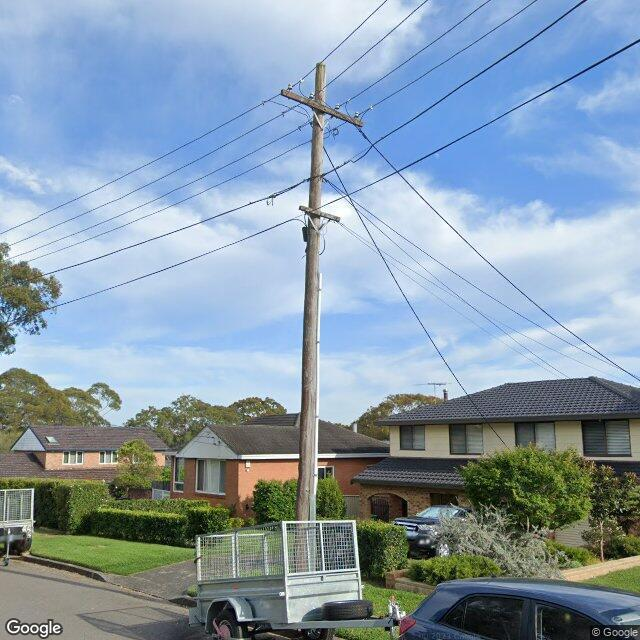crossarm: (281, 89, 364, 129), (298, 205, 342, 222)
timber-pole: (293, 62, 328, 575)
